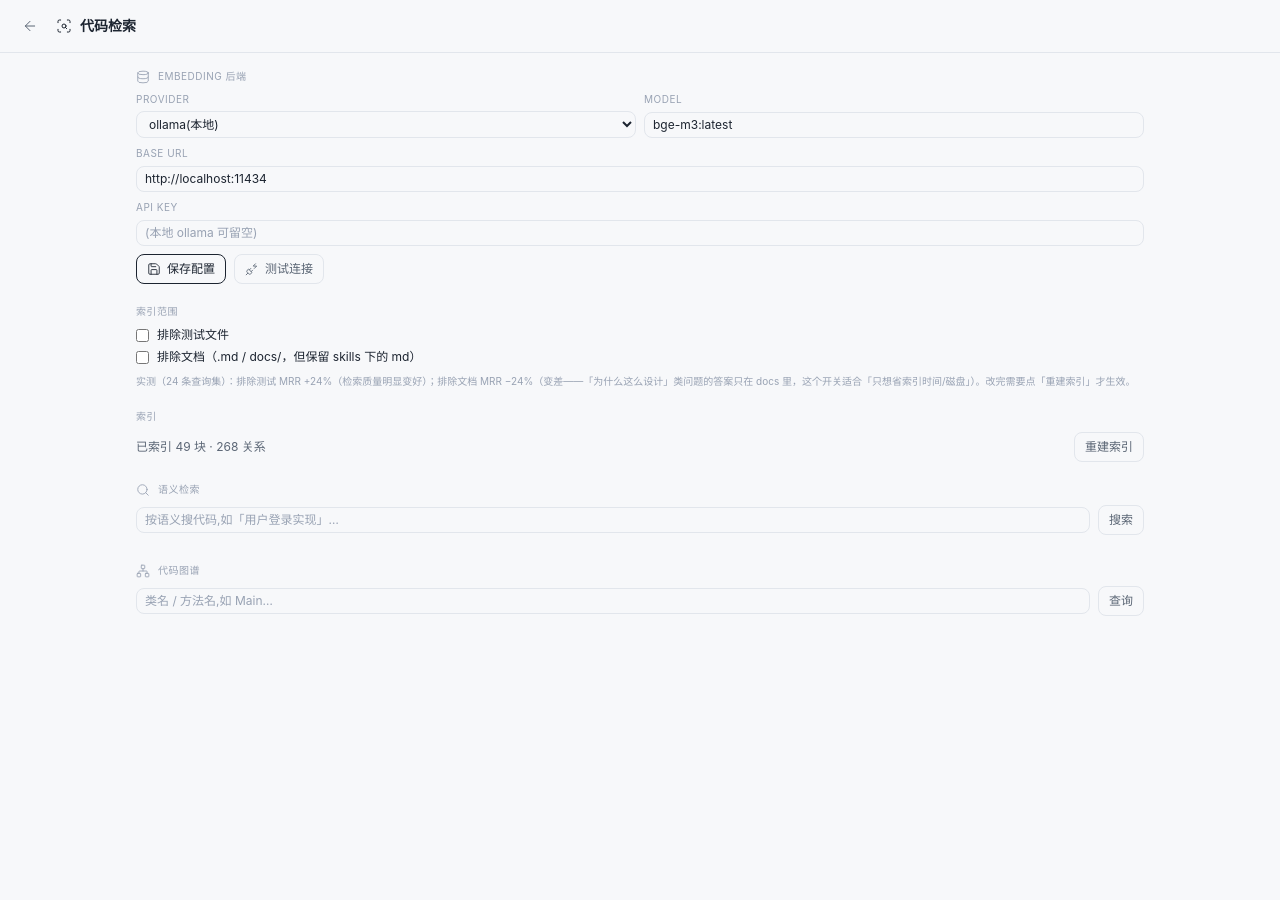
Test: RagPanel 一跳邻域图 › 查到关系后画出 SVG,中心是查询的符号
Type "GLMClient" into the field with placeholder "类名 / 方法名,如 Main…" at (613, 601), box [136,588,1090,614]
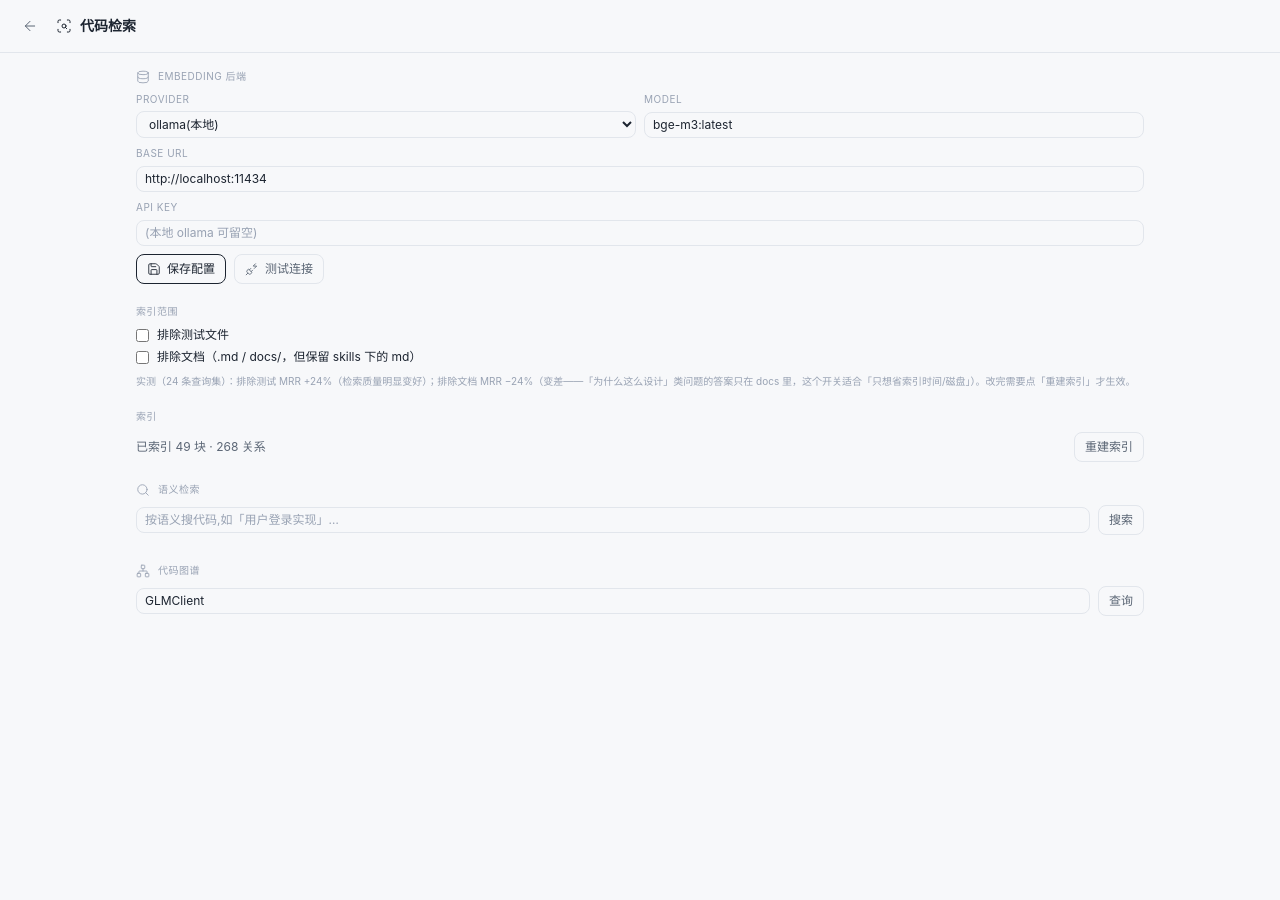
Click the button "查询" at (1121, 601), box [1098,586,1144,616]
(page scrolled)
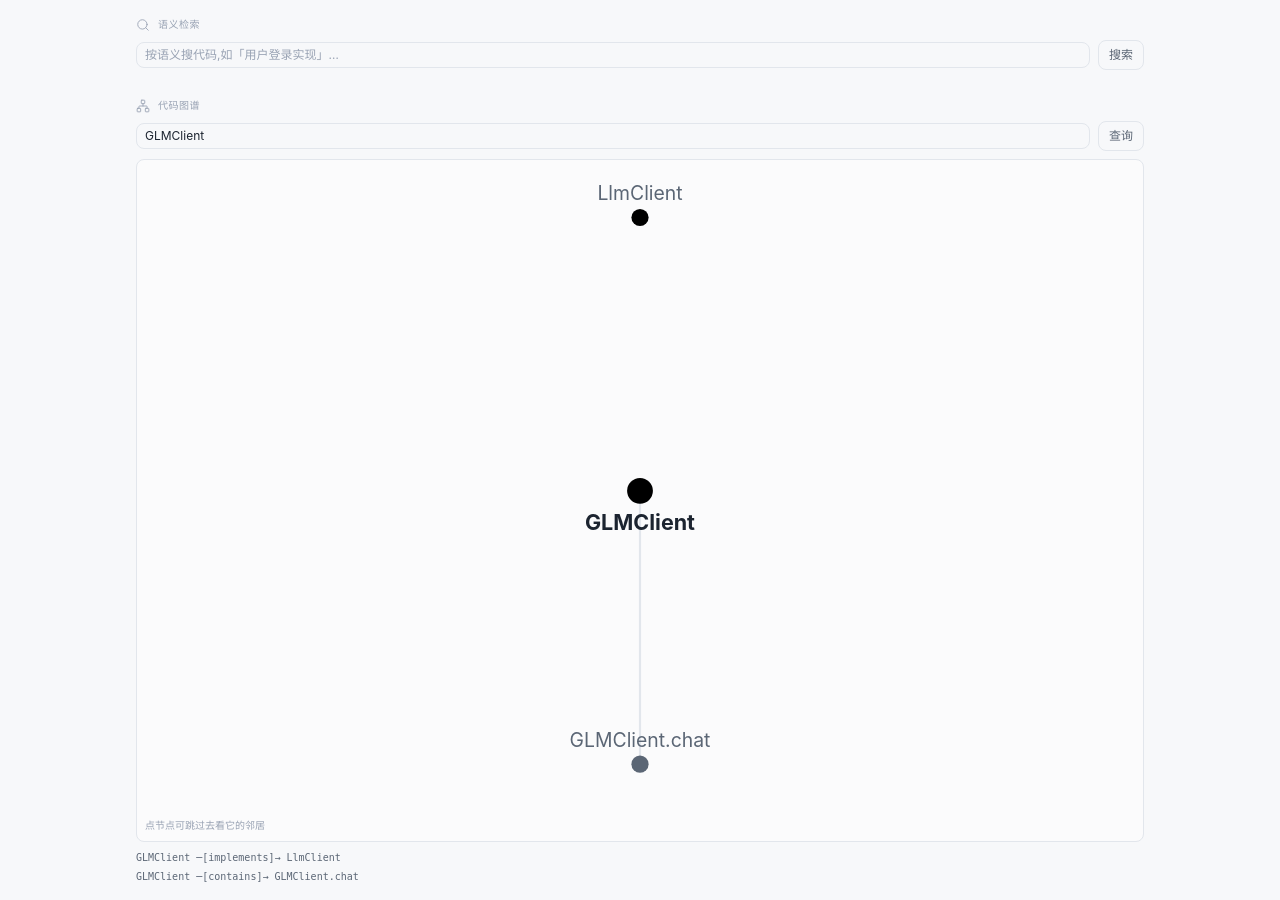
Result: the element with test id "rag-ego-graph" shows "LlmClient" at [597,182,683,206]
